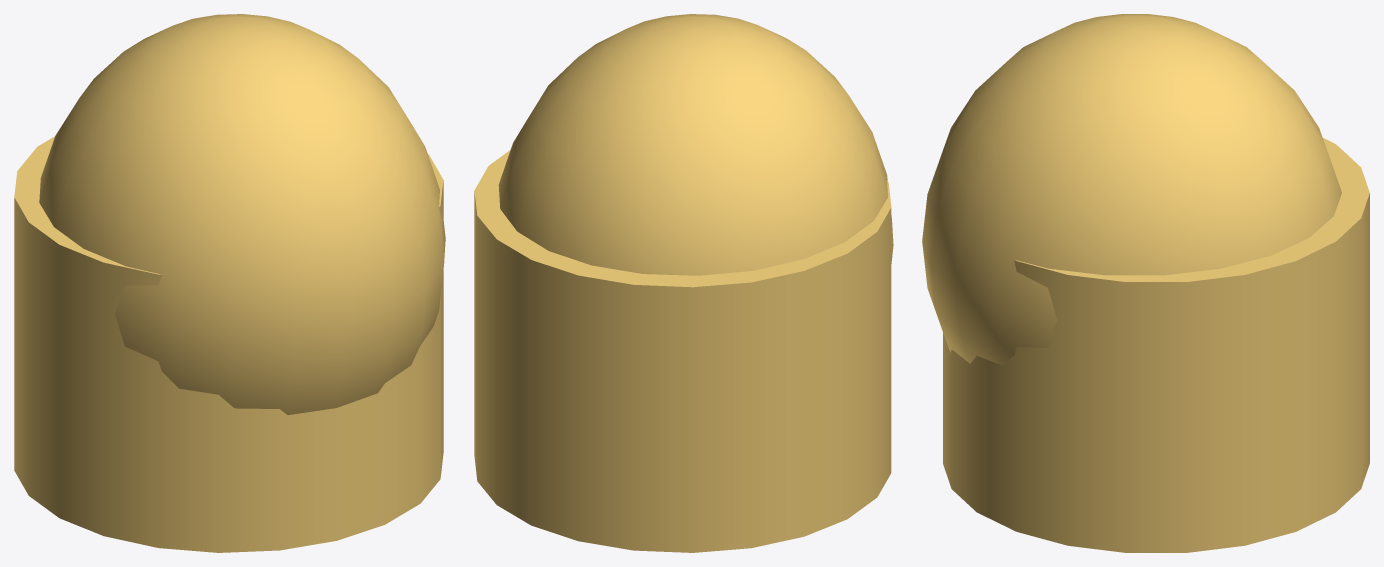
Rendered from VM-DAM-SH39940178.glb.
The picture shows the model from 3 angles, left to right: view 1: azimuth 30°, elevation 25°; view 2: azimuth 150°, elevation 25°; view 3: azimuth 270°, elevation 25°; orthographic projection. The views are drawn at different scales.
Parts seen in each view (by area): view 1: Peluca Cosplay K-Pop Adulto; view 2: Peluca Cosplay K-Pop Adulto; view 3: Peluca Cosplay K-Pop Adulto.
Boxes of the visible parts, box(x1,y1,x2,y2) form: Peluca Cosplay K-Pop Adulto: box(14, 14, 445, 552); Peluca Cosplay K-Pop Adulto: box(474, 14, 893, 552); Peluca Cosplay K-Pop Adulto: box(922, 14, 1369, 552).
Bounding box in the file's own units: 0.198 × 0.2242 × 0.2097.
